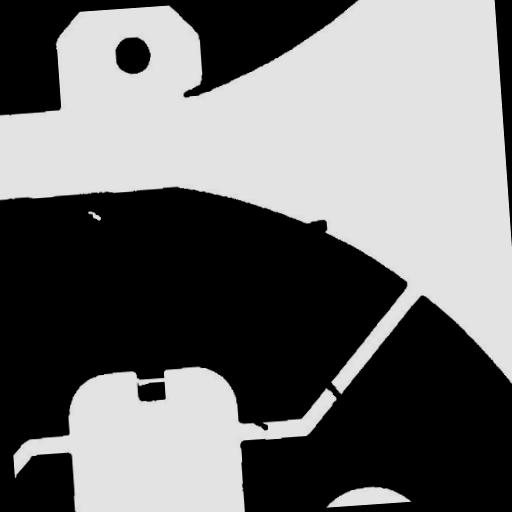open: (124, 368, 173, 394)
pin-hole: (79, 202, 109, 229)
short: (312, 368, 351, 416)
spur: (174, 68, 223, 106), (296, 212, 335, 244), (242, 408, 276, 438)
